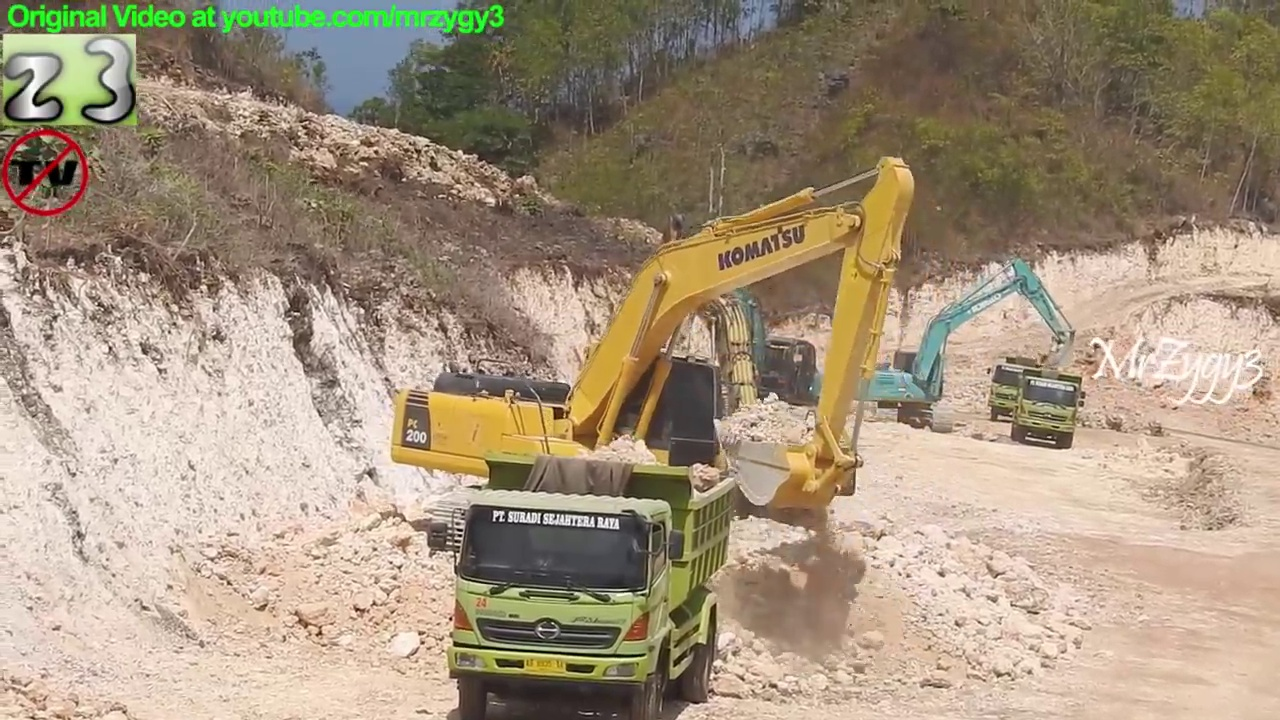excavator: (388, 154, 916, 559), (834, 257, 1081, 437), (647, 274, 841, 459)
truck: (426, 447, 737, 720), (1009, 367, 1089, 452), (985, 351, 1061, 427)
